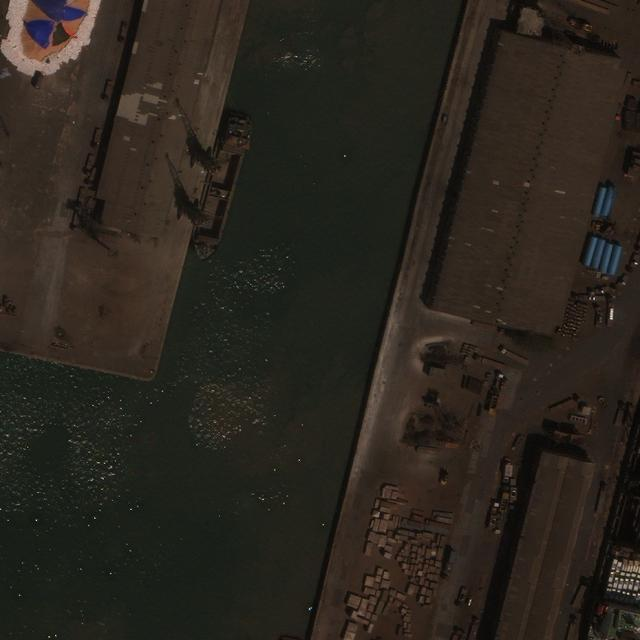Container Ship: (185, 109, 257, 266)
